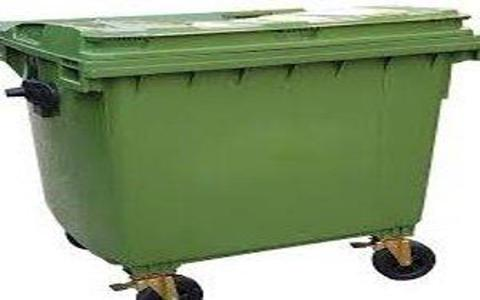Proper garbage: (4, 1, 478, 296)
